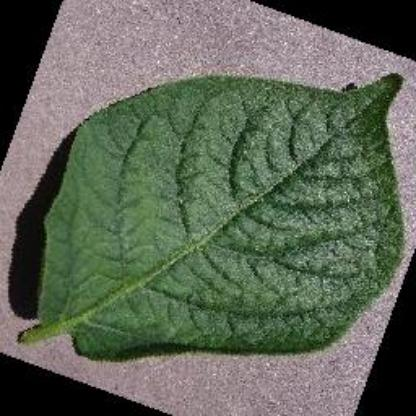Healthy-plant: (29, 13, 407, 383)
